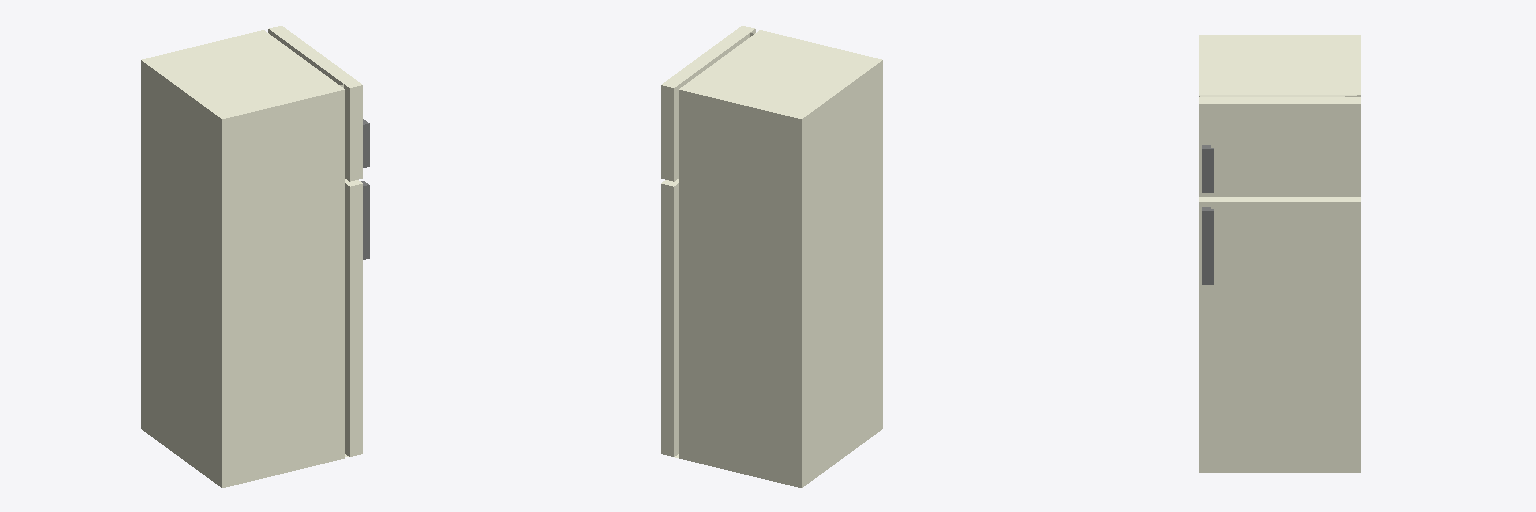
The model's file is koelkast.obj.
The picture shows the model from 3 angles: view 1: azimuth 30°, elevation 25°; view 2: azimuth 150°, elevation 25°; view 3: azimuth 270°, elevation 25°; orthographic projection.
Parts seen in each view (by area): view 1: Cube, Cube.001; view 2: Cube; view 3: Cube, Cube.001.
Part boxes in pixels (x1,y1,x2,y2): Cube: (141, 26, 362, 487); Cube.001: (361, 119, 369, 259); Cube: (661, 26, 882, 487); Cube: (1199, 35, 1360, 472); Cube.001: (1202, 145, 1213, 284).
Size of the model in its own units: 2.11 by 5 by 2.